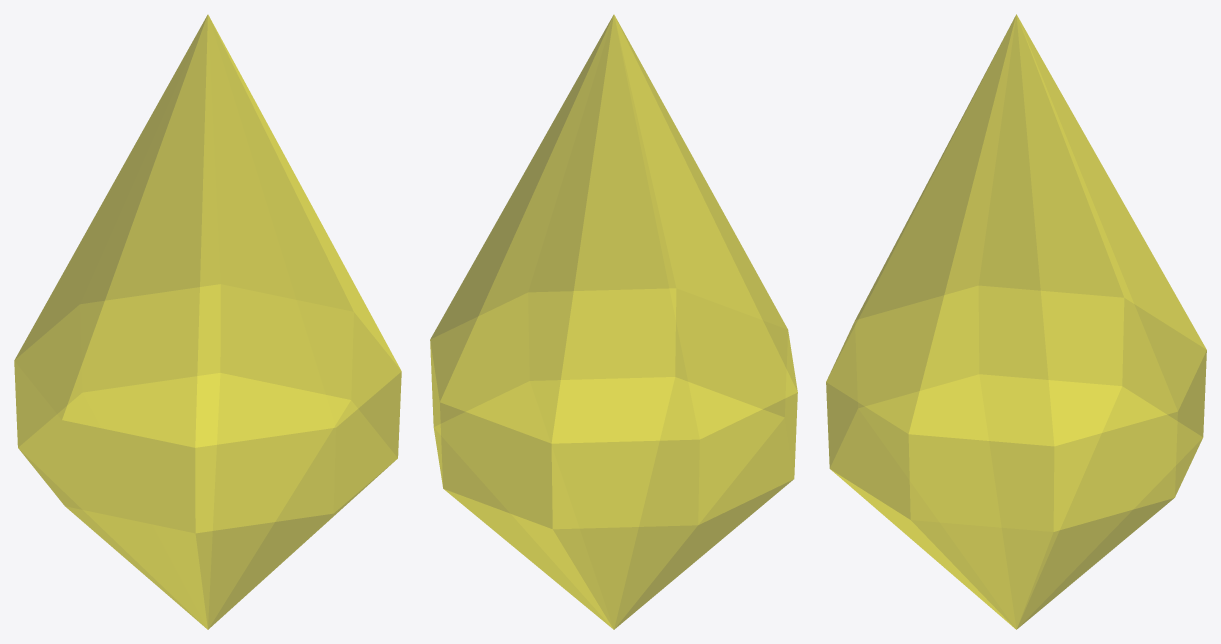
Rendered from Crystal.obj.
3 renders of one model, left to right at view 1: azimuth 30°, elevation 25°; view 2: azimuth 150°, elevation 25°; view 3: azimuth 270°, elevation 25°, orthographic.
Parts seen in each view (by area): view 1: Sphere; view 2: Sphere; view 3: Sphere.
Part boxes in pixels (box(x1,y1,x2,y2)): Sphere: box(14, 14, 401, 629); Sphere: box(430, 14, 797, 629); Sphere: box(826, 14, 1206, 629).
Bounding box in the file's own units: 1.96 × 3.5 × 1.96.
